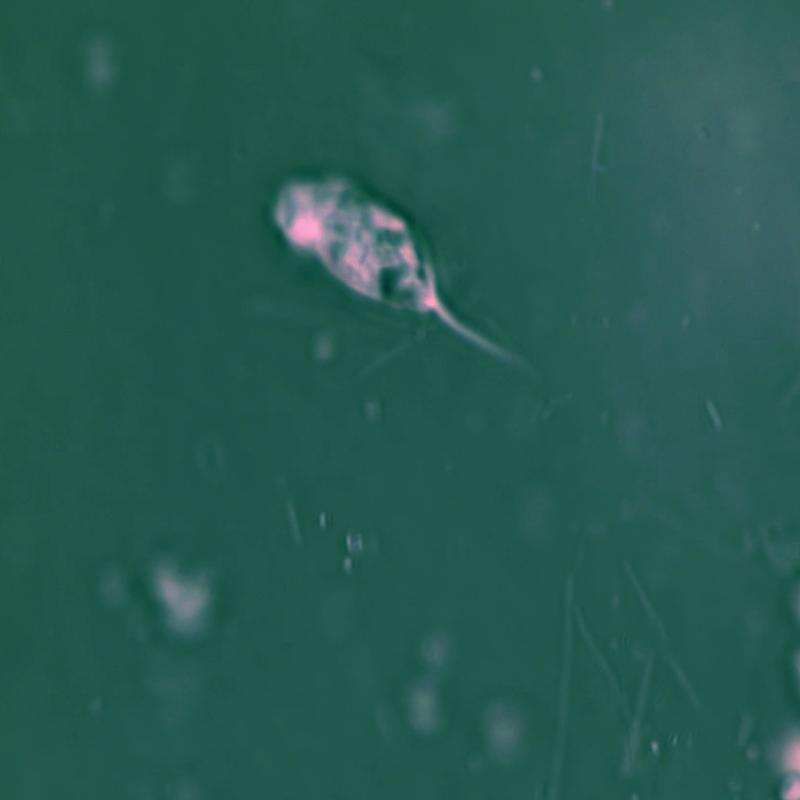depth:60: (232, 135, 574, 397)
